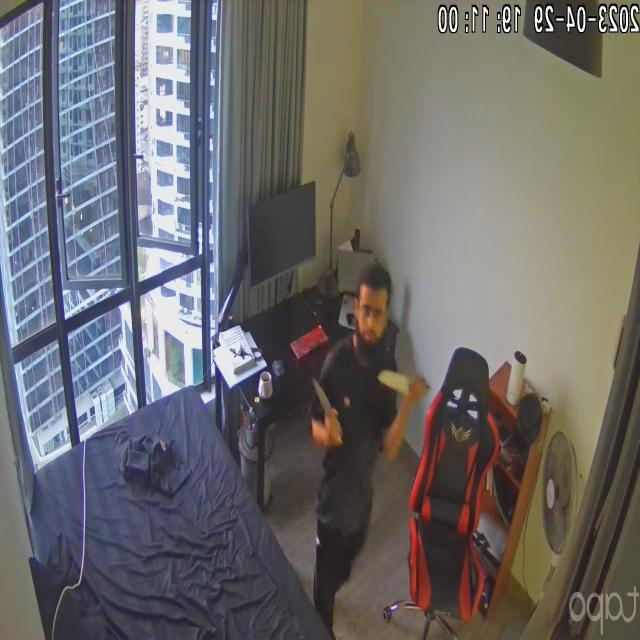Knife: (301, 378, 346, 440), (372, 360, 429, 398)
